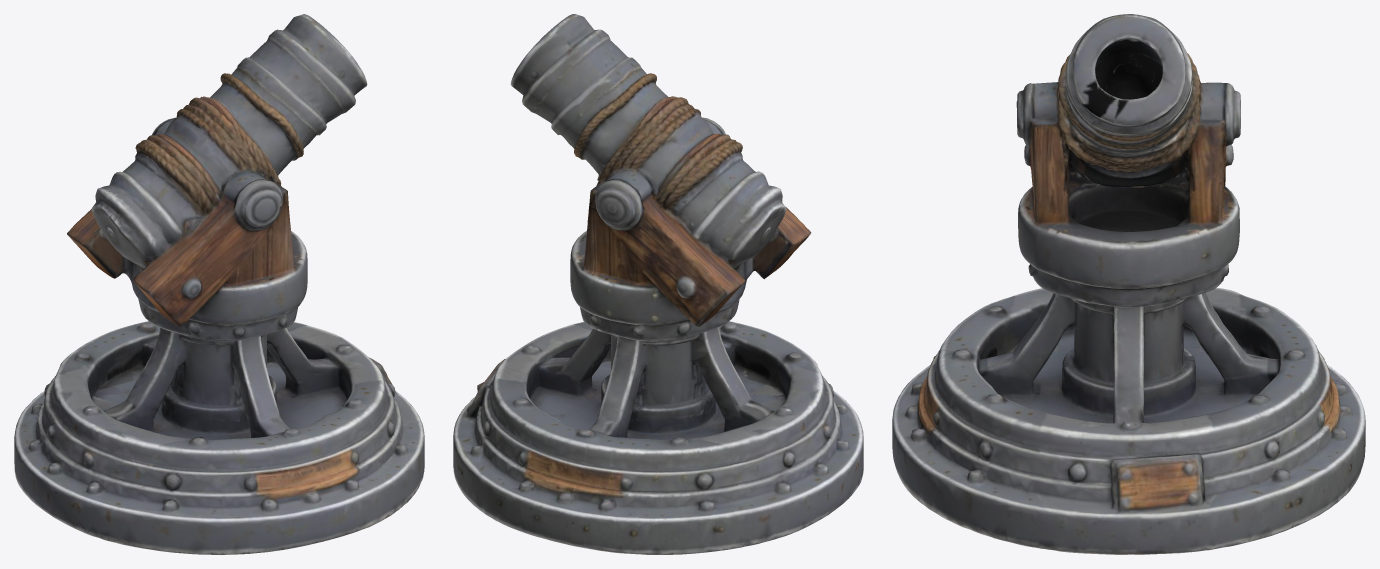
The model's file is mortar_high_quality.glb.
The picture shows the model from 3 angles, left to right: view 1: azimuth 30°, elevation 25°; view 2: azimuth 150°, elevation 25°; view 3: azimuth 270°, elevation 25°; orthographic projection. The views are drawn at different scales.
Visible parts, largest first — view 1: Base, Head; view 2: Base, Head; view 3: Base, Head.
Boxes of the visible parts, left/top/right/bottom form: Base: left=14, top=297, right=424, bottom=554; Head: left=67, top=14, right=367, bottom=326; Base: left=453, top=299, right=863, bottom=554; Head: left=510, top=14, right=811, bottom=326; Base: left=892, top=264, right=1365, bottom=554; Head: left=1016, top=14, right=1240, bottom=288.
Size of the model in its own units: 1.66 by 1.92 by 1.66.
Materials: 1 (1 with a texture image).
